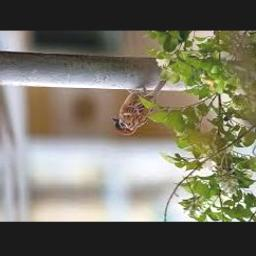Sparrow: (113, 81, 167, 136)
